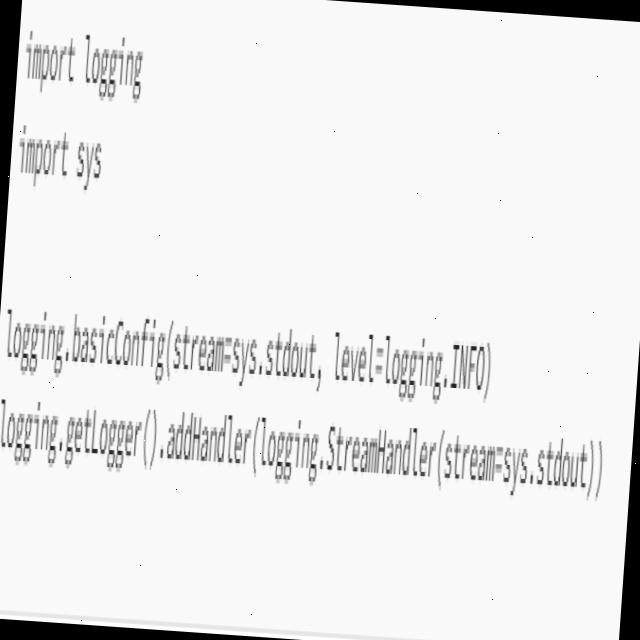word: (0, 379, 611, 521), (0, 300, 329, 417), (326, 310, 502, 416), (77, 18, 151, 117), (21, 14, 79, 103), (15, 108, 73, 183), (72, 128, 111, 198)
